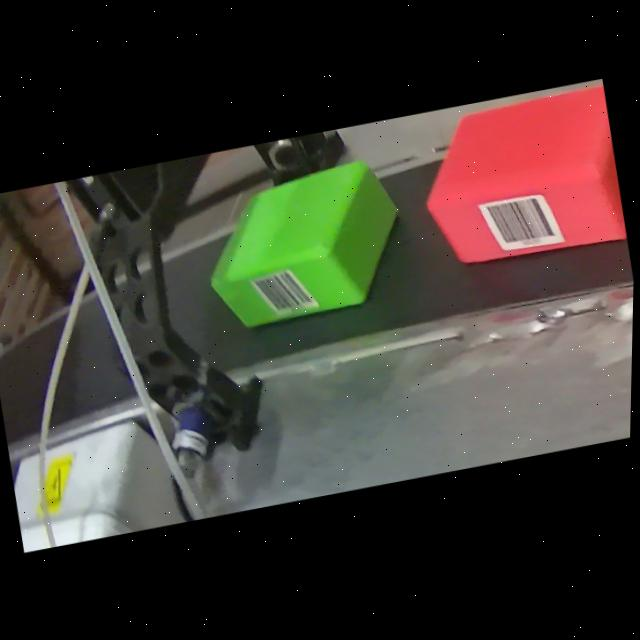greenBox: (189, 151, 422, 339)
redBox: (407, 85, 632, 287)
